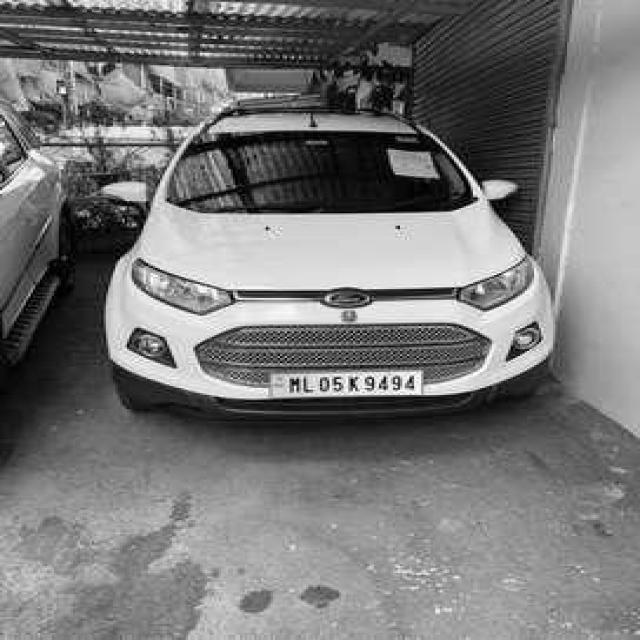car: (97, 90, 562, 446)
license-plate: (261, 369, 428, 400)
